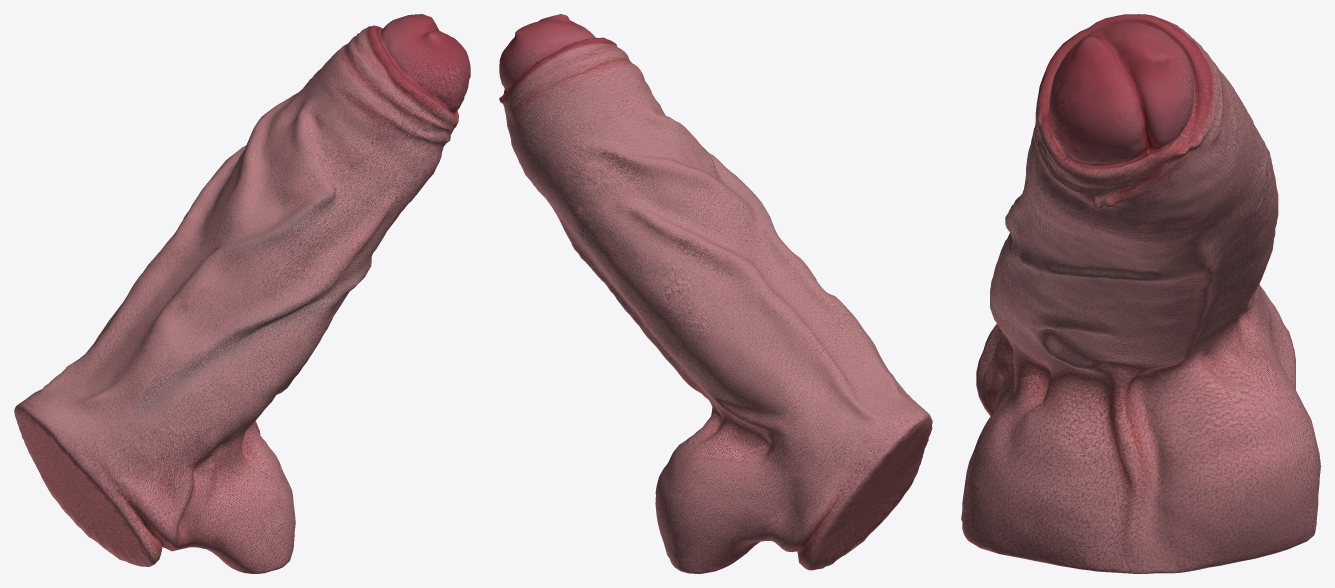
Rendered from huge.glb.
3 views of the same model, side by side, from view 1: azimuth 30°, elevation 25°; view 2: azimuth 150°, elevation 25°; view 3: azimuth 270°, elevation 25° (orthographic). The views are drawn at different scales.
Visible parts, largest first — view 1: tripo_node_39426cf8-7de5-44df-82a4-bfda79216331; view 2: tripo_node_39426cf8-7de5-44df-82a4-bfda79216331; view 3: tripo_node_39426cf8-7de5-44df-82a4-bfda79216331.
Boxes of the visible parts, bbox=[...] form: tripo_node_39426cf8-7de5-44df-82a4-bfda79216331: bbox=[14, 14, 470, 573]; tripo_node_39426cf8-7de5-44df-82a4-bfda79216331: bbox=[499, 14, 932, 573]; tripo_node_39426cf8-7de5-44df-82a4-bfda79216331: bbox=[961, 14, 1320, 573].
Size of the model in its own units: 0.9707 by 0.998 by 0.5098.
Materials: 1 (1 with a texture image).
